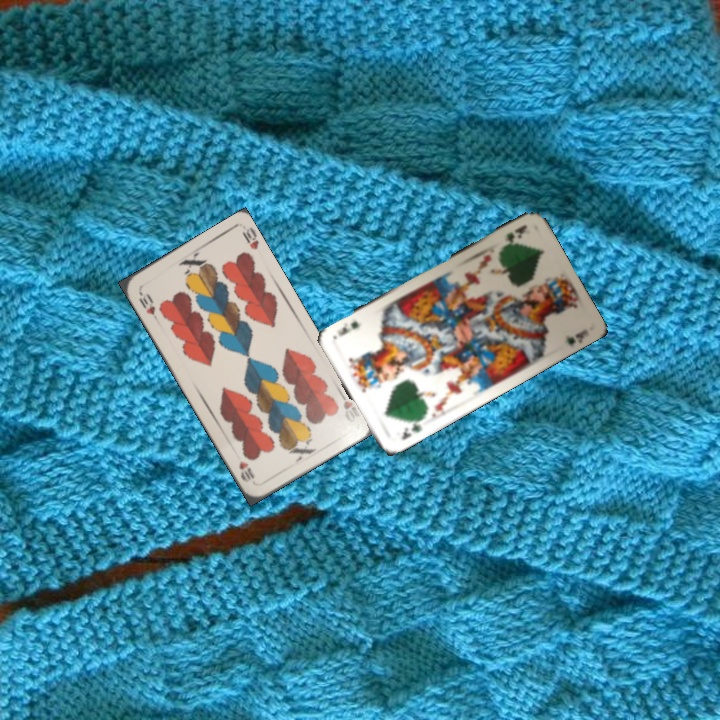GK: (496, 221, 529, 250), (397, 415, 424, 442)
H10: (335, 387, 362, 425), (134, 287, 158, 317)
